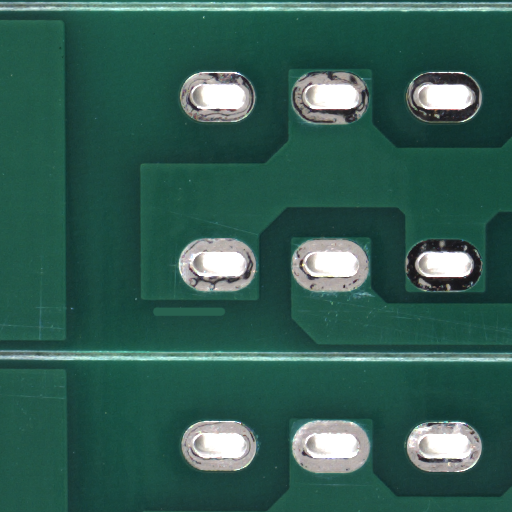Spurious_copper: (188, 311, 265, 323)
